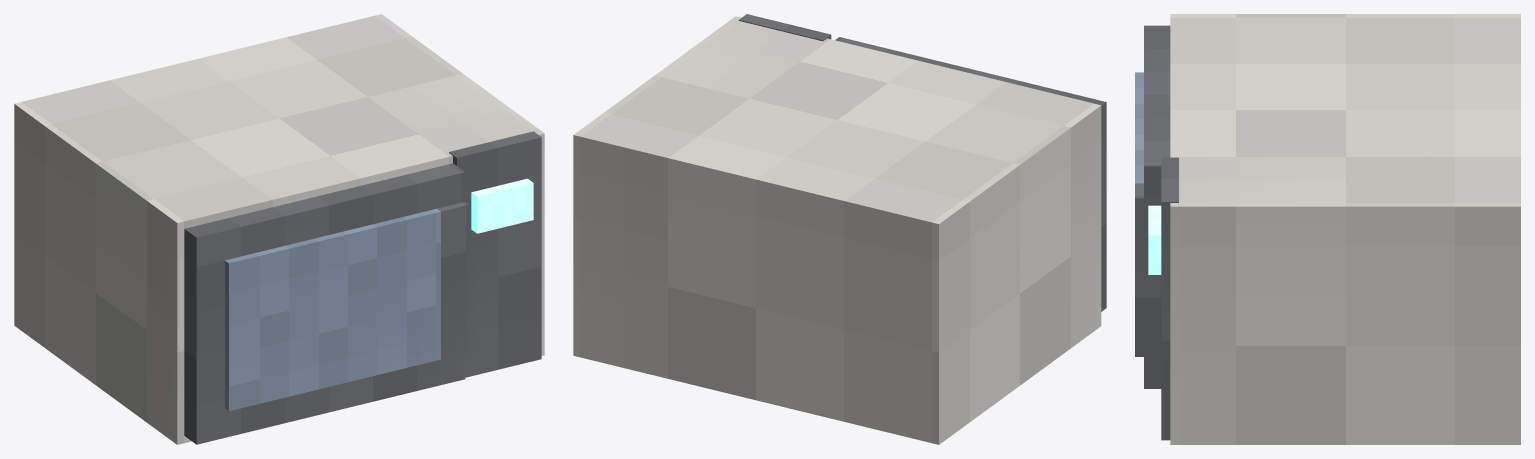
Rendered from pixel-modern-office-microwave-3334c628.glb.
3 views of the same model, side by side, from view 1: azimuth 30°, elevation 25°; view 2: azimuth 150°, elevation 25°; view 3: azimuth 270°, elevation 25° (orthographic). The views are drawn at different scales.
Parts seen in each view (by area): view 1: microwave, door-microwave/slate, door-microwave/charcoal; view 2: microwave, door-microwave/charcoal; view 3: microwave, door-microwave/charcoal, door-microwave/slate.
Boxes of the visible parts, x1,y1,x2,y2 form: microwave: (14, 14, 544, 444); door-microwave/slate: (225, 208, 440, 411); door-microwave/charcoal: (184, 163, 469, 444); microwave: (573, 14, 1101, 444); door-microwave/charcoal: (835, 37, 1106, 311); microwave: (1148, 14, 1520, 444); door-microwave/charcoal: (1135, 25, 1170, 388); door-microwave/slate: (1135, 72, 1143, 183).
Size of the model in its own units: 0.52 by 0.3012 by 0.44.
Materials: 4 (4 with a texture image).
